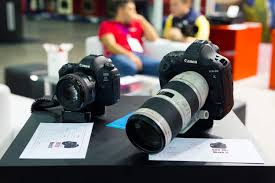camera: (126, 43, 232, 150), (57, 54, 120, 120)
